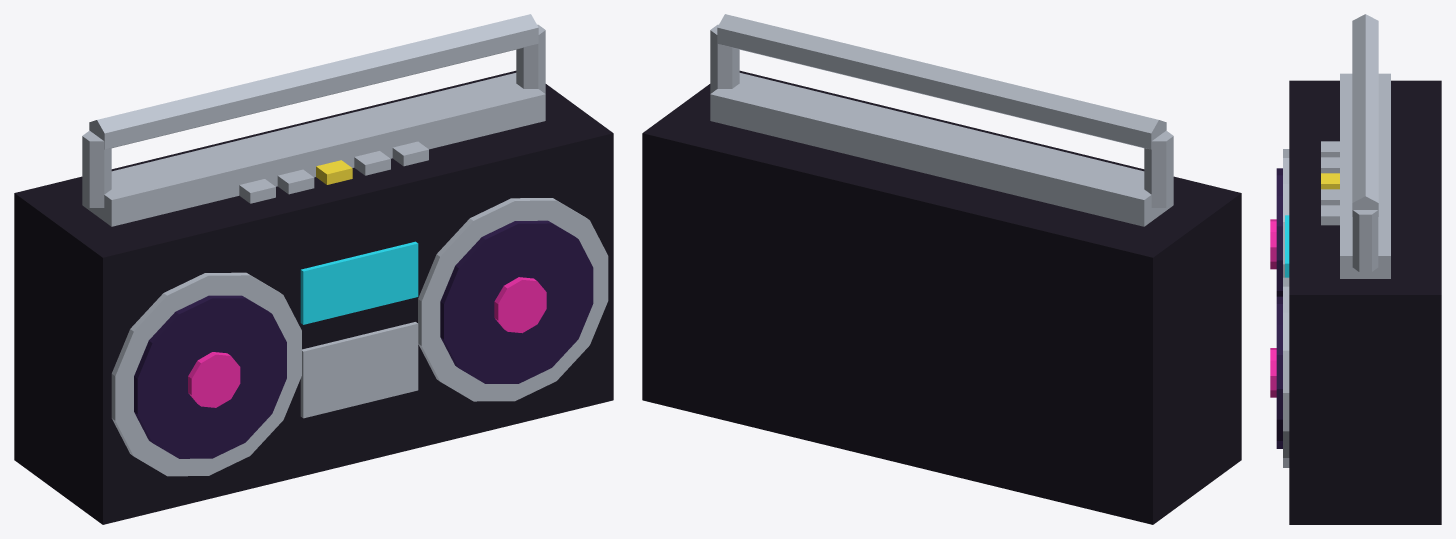
The model's file is Boombox.fbx.
3 renders of one model, left to right at view 1: azimuth 30°, elevation 25°; view 2: azimuth 150°, elevation 25°; view 3: azimuth 270°, elevation 25°, orthographic. The views are drawn at different scales.
Parts seen in each view (by area): view 1: Boombox, Boombox_Glow; view 2: Boombox; view 3: Boombox, Boombox_Glow.
Part boxes in pixels (left/top/right/bottom): Boombox: left=14, top=14, right=613, bottom=524; Boombox_Glow: left=188, top=160, right=546, bottom=407; Boombox: left=642, top=14, right=1241, bottom=524; Boombox: left=1276, top=14, right=1441, bottom=524; Boombox_Glow: left=1270, top=173, right=1339, bottom=397.
Bounding box in the file's own units: 400 × 272 × 135.
Materials: 1 (1 with a texture image).
